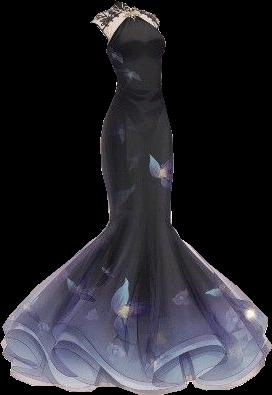Bodice: (90, 1, 165, 93)
Hemline: (2, 320, 271, 390), (0, 337, 266, 394)
Neckline: (106, 9, 161, 43), (114, 0, 137, 9)
Skirt: (1, 90, 271, 394)
